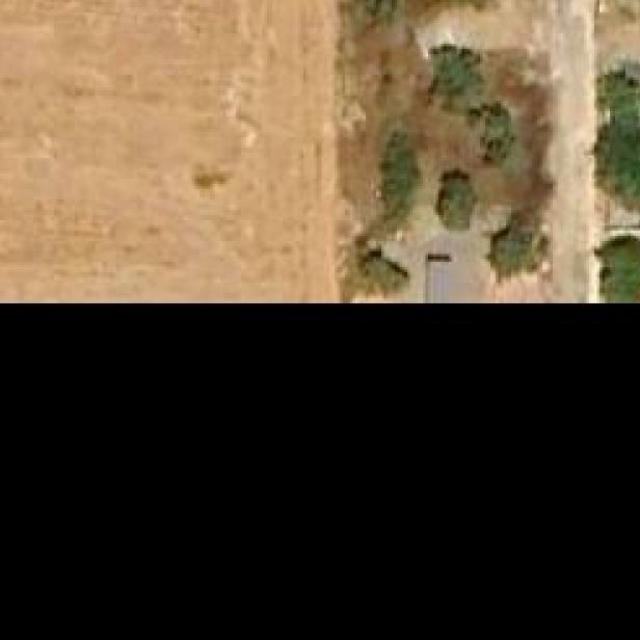Tree: (368, 135, 425, 223), (588, 125, 640, 211), (423, 44, 485, 106), (589, 233, 640, 303), (433, 163, 483, 229), (469, 101, 522, 163), (490, 226, 551, 276), (354, 249, 410, 294), (592, 62, 640, 114)
